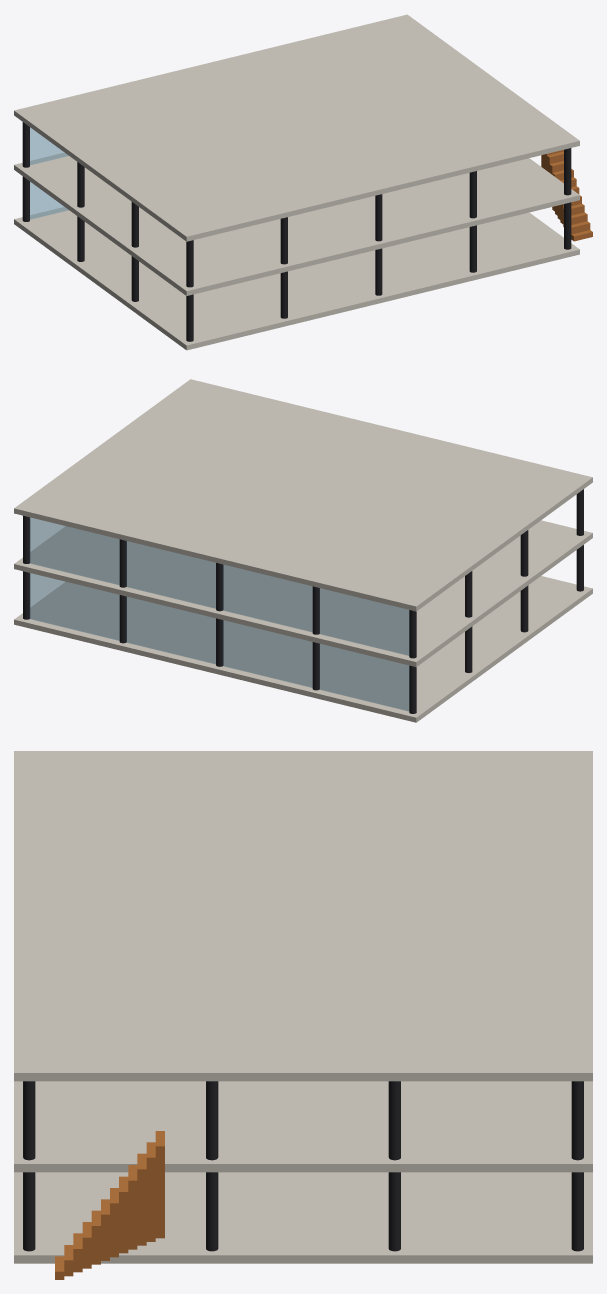
The model's file is 01_pavilion_m.obj.
The picture shows the model from 3 angles, top to bottom: view 1: azimuth 30°, elevation 25°; view 2: azimuth 150°, elevation 25°; view 3: azimuth 270°, elevation 25°; orthographic projection. The views are drawn at different scales.
Parts seen in each view (by area): view 1: concrete, columns, glass, wood; view 2: concrete, glass, columns; view 3: concrete, columns, wood.
Boxes of the visible parts, bbox=[...] form: concrete: bbox=[14, 14, 579, 350]; columns: bbox=[22, 122, 571, 341]; glass: bbox=[30, 127, 68, 219]; wood: bbox=[541, 150, 592, 241]; concrete: bbox=[14, 379, 592, 722]; glass: bbox=[30, 517, 409, 711]; columns: bbox=[23, 489, 583, 713]; concrete: bbox=[14, 751, 592, 1263]; columns: bbox=[23, 1081, 583, 1251]; wood: bbox=[55, 1131, 164, 1279].
Bounding box in the file's own units: 26.6 × 6.9 × 19.
